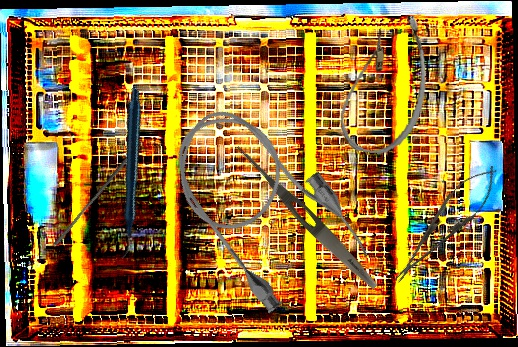Cannula: (149, 82, 378, 326), (335, 8, 436, 159)
Dressing Forceps: (230, 142, 382, 293)
Handpiece: (45, 87, 211, 259)
Needle Holder: (382, 156, 508, 293)
Pusher: (52, 155, 129, 249)
